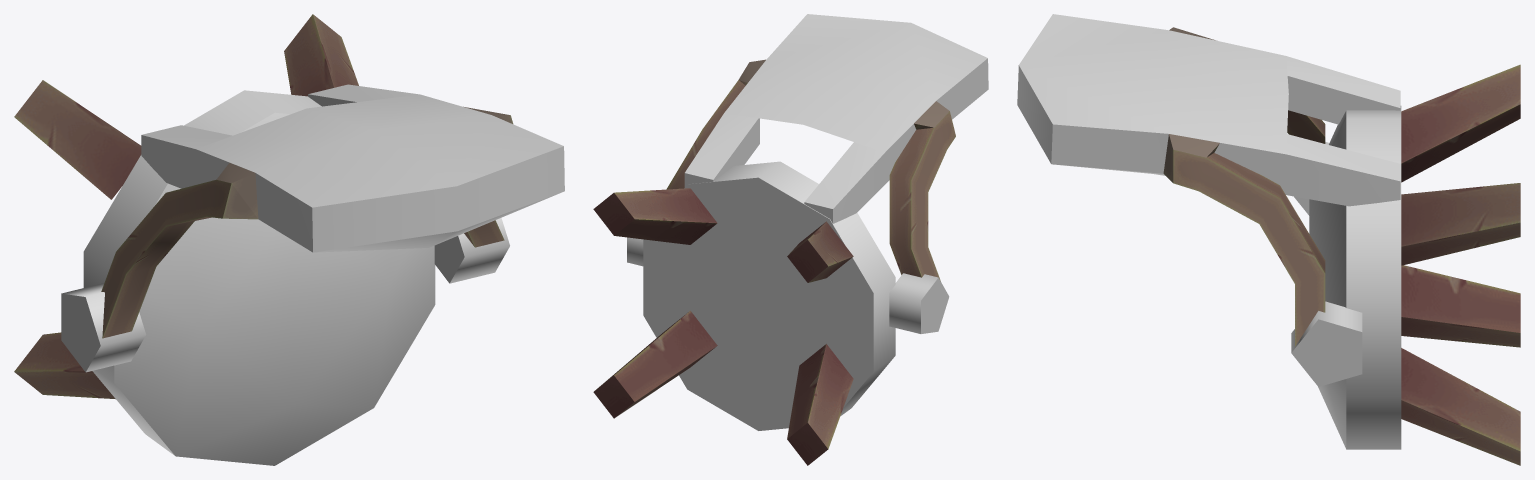
The model's file is chair_01.glb.
The picture shows the model from 3 angles, left to right: view 1: azimuth 30°, elevation 25°; view 2: azimuth 150°, elevation 25°; view 3: azimuth 270°, elevation 25°; orthographic projection. The views are drawn at different scales.
Visible parts, largest first — view 1: manor.chair_01-MeshNodes["chair_manor_01"], manor.chair_01-MeshNodes["chair_manor_01_legs"], manor.chair_01-MeshNodes["chair_manor_01_arms"]; view 2: manor.chair_01-MeshNodes["chair_manor_01"], manor.chair_01-MeshNodes["chair_manor_01_legs"], manor.chair_01-MeshNodes["chair_manor_01_arms"]; view 3: manor.chair_01-MeshNodes["chair_manor_01"], manor.chair_01-MeshNodes["chair_manor_01_legs"], manor.chair_01-MeshNodes["chair_manor_01_arms"].
Boxes of the visible parts, left/top/right/bottom form: manor.chair_01-MeshNodes["chair_manor_01"]: left=61, top=84, right=564, bottom=465; manor.chair_01-MeshNodes["chair_manor_01_legs"]: left=14, top=14, right=474, bottom=399; manor.chair_01-MeshNodes["chair_manor_01_arms"]: left=101, top=106, right=513, bottom=338; manor.chair_01-MeshNodes["chair_manor_01"]: left=627, top=14, right=988, bottom=430; manor.chair_01-MeshNodes["chair_manor_01_legs"]: left=593, top=80, right=933, bottom=465; manor.chair_01-MeshNodes["chair_manor_01_arms"]: left=738, top=59, right=955, bottom=281; manor.chair_01-MeshNodes["chair_manor_01"]: left=1017, top=14, right=1401, bottom=449; manor.chair_01-MeshNodes["chair_manor_01_legs"]: left=1206, top=64, right=1520, bottom=465; manor.chair_01-MeshNodes["chair_manor_01_arms"]: left=1163, top=27, right=1325, bottom=346.
Bounding box in the file's own units: 1.08 × 1.04 × 1.28.
3 materials, 2 textured.
